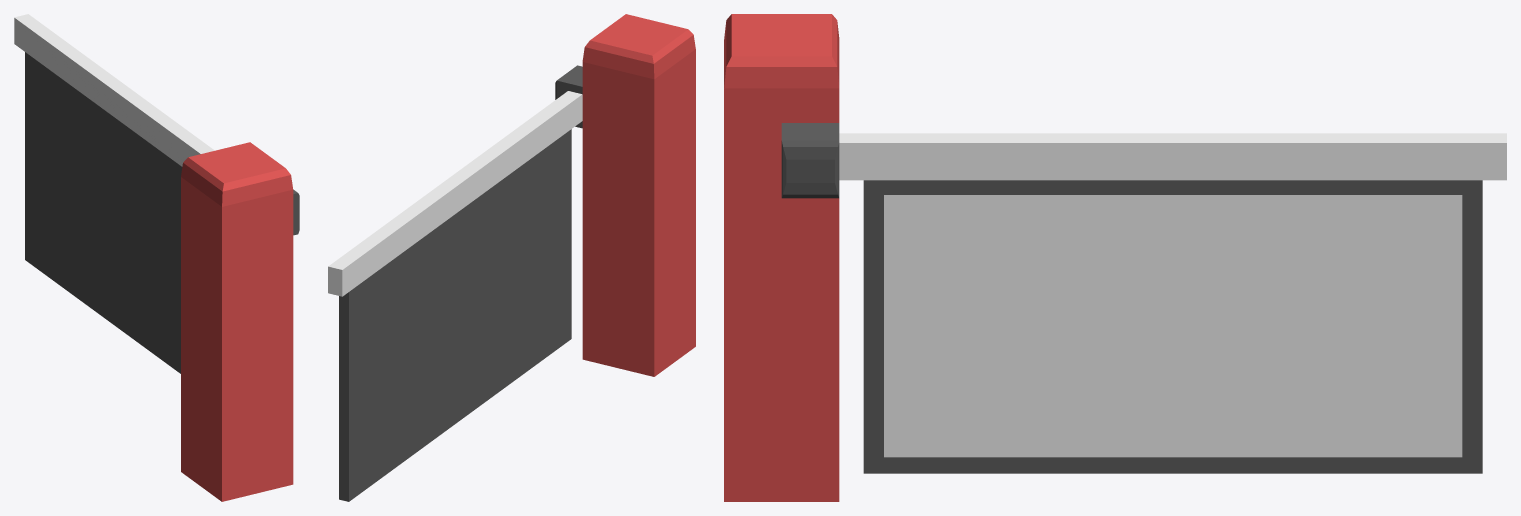
File: Barrier 1.2.fbx
The picture shows the model from 3 angles, left to right: view 1: azimuth 30°, elevation 25°; view 2: azimuth 150°, elevation 25°; view 3: azimuth 270°, elevation 25°; orthographic projection. The views are drawn at different scales.
Parts seen in each view (by area): view 1: Barrier_7.001; view 2: Barrier_7.001; view 3: Barrier_7.001.
Boxes of the visible parts, x1,y1,x2,y2 form: Barrier_7.001: [14, 14, 299, 501]; Barrier_7.001: [328, 14, 695, 501]; Barrier_7.001: [724, 14, 1506, 501].
Size of the model in its own units: 66.83 by 202 by 324.
